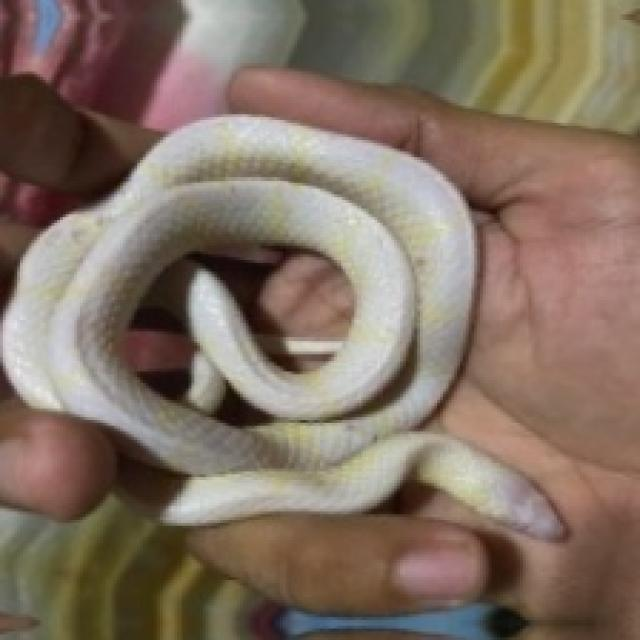gunthers philippine shrub snake: (3, 114, 560, 534), (114, 243, 354, 426)
